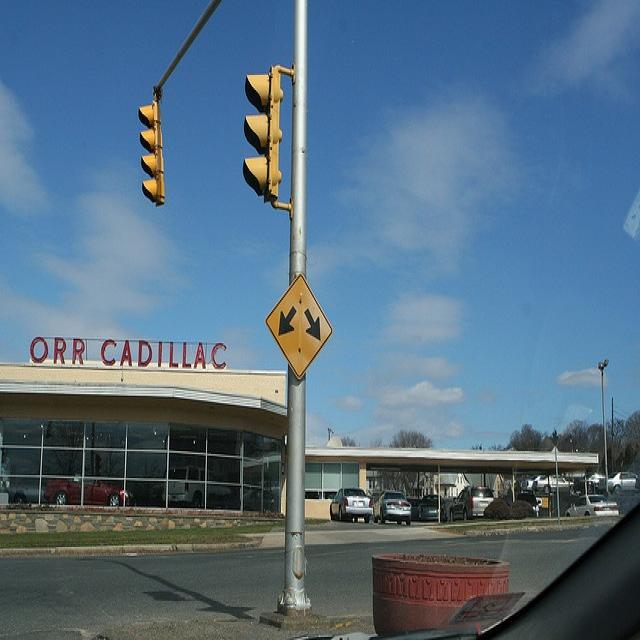car: (160, 463, 231, 507), (40, 469, 134, 502), (448, 482, 495, 522), (373, 487, 411, 525), (329, 486, 371, 520), (564, 492, 619, 514), (597, 469, 639, 492), (532, 472, 573, 492), (415, 492, 437, 520), (515, 490, 540, 514), (523, 472, 544, 490)
pole: (280, 0, 313, 609)
